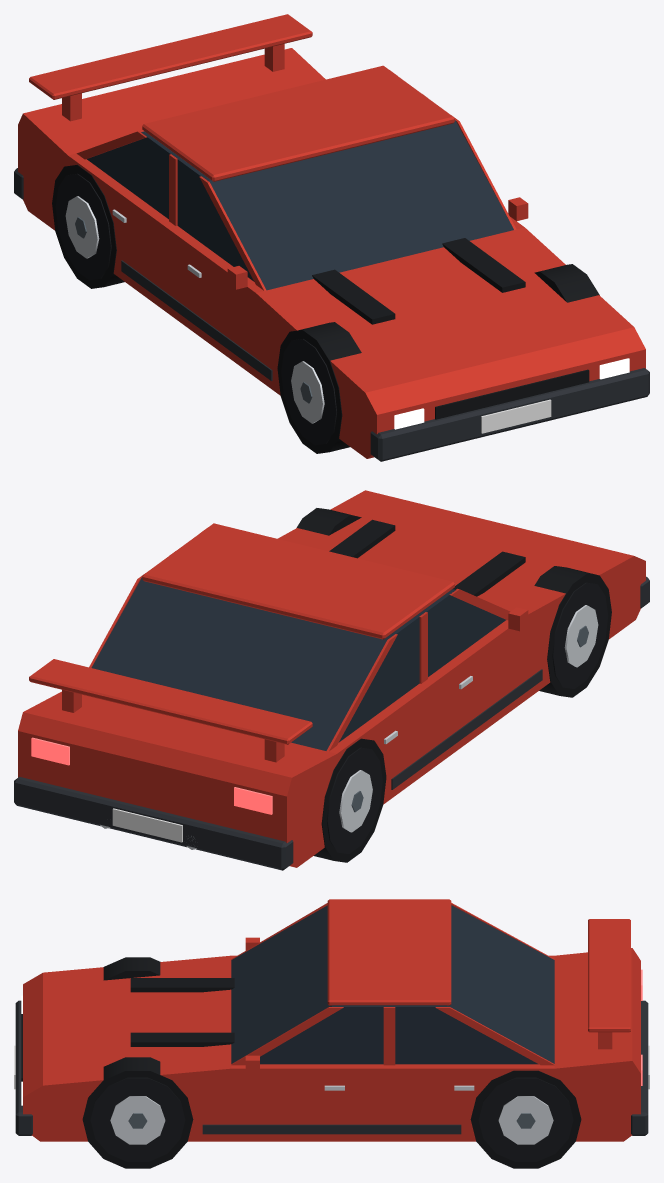
File: sports_car.glb
3 views of the same model, one above another, from view 1: azimuth 30°, elevation 25°; view 2: azimuth 150°, elevation 25°; view 3: azimuth 270°, elevation 25° (orthographic). The views are drawn at different scales.
Visible parts, largest first — view 1: sports_car; view 2: sports_car; view 3: sports_car.
Part boxes in pixels (x1,y1,x2,y2): sports_car: (14,14,649,461); sports_car: (14,490,649,870); sports_car: (14,899,649,1168).
Size of the model in its own units: 2.02 by 1.25 by 4.42.
